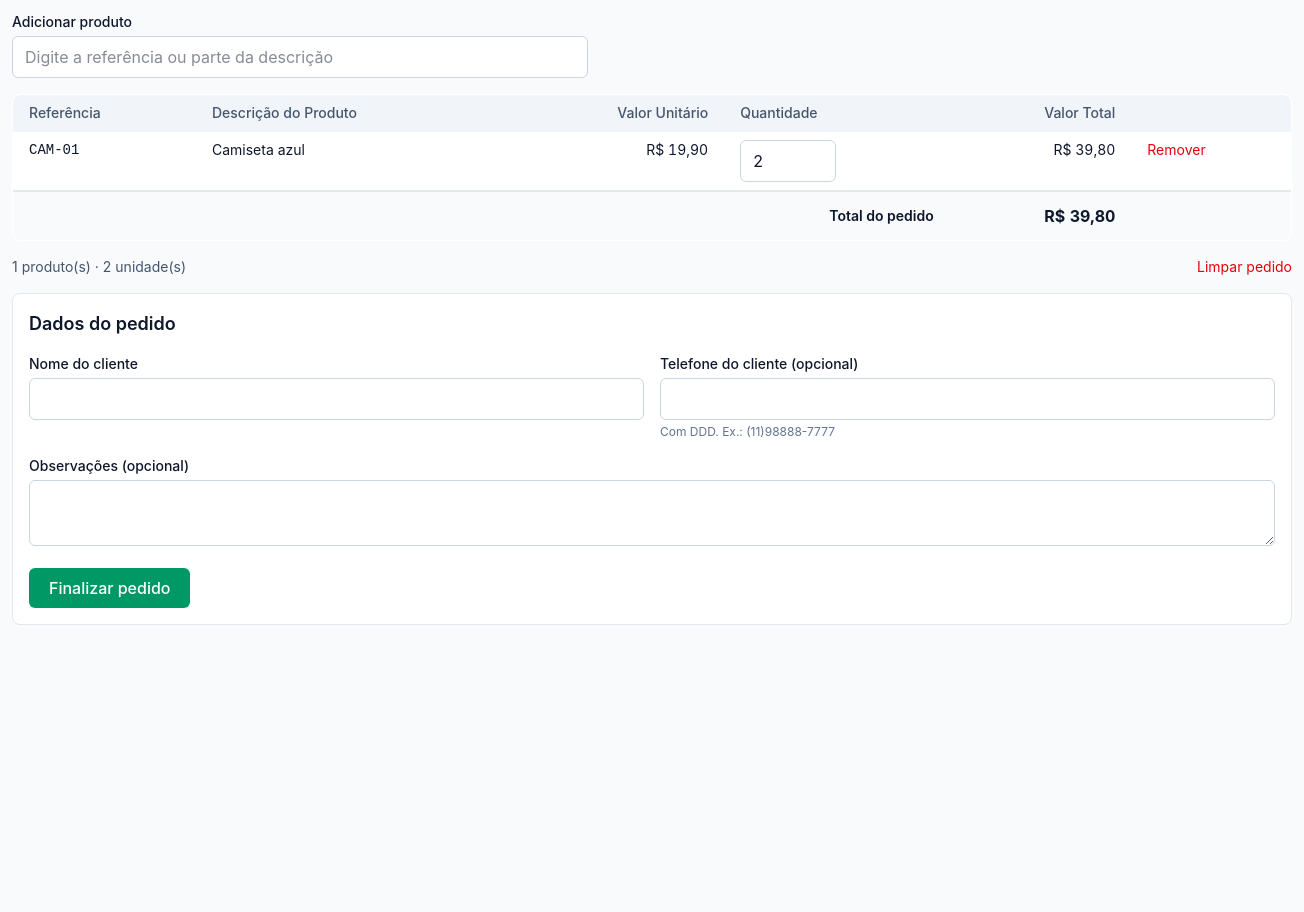
Scenario: edição e cálculo automático › corrigir a quantidade volta a calcular e a permitir o salvamento
Replace the text in the field named "Quantidade de CAM-01" with "x": coordinates (788, 161) [740,140,836,182]
Wait 1200 ms
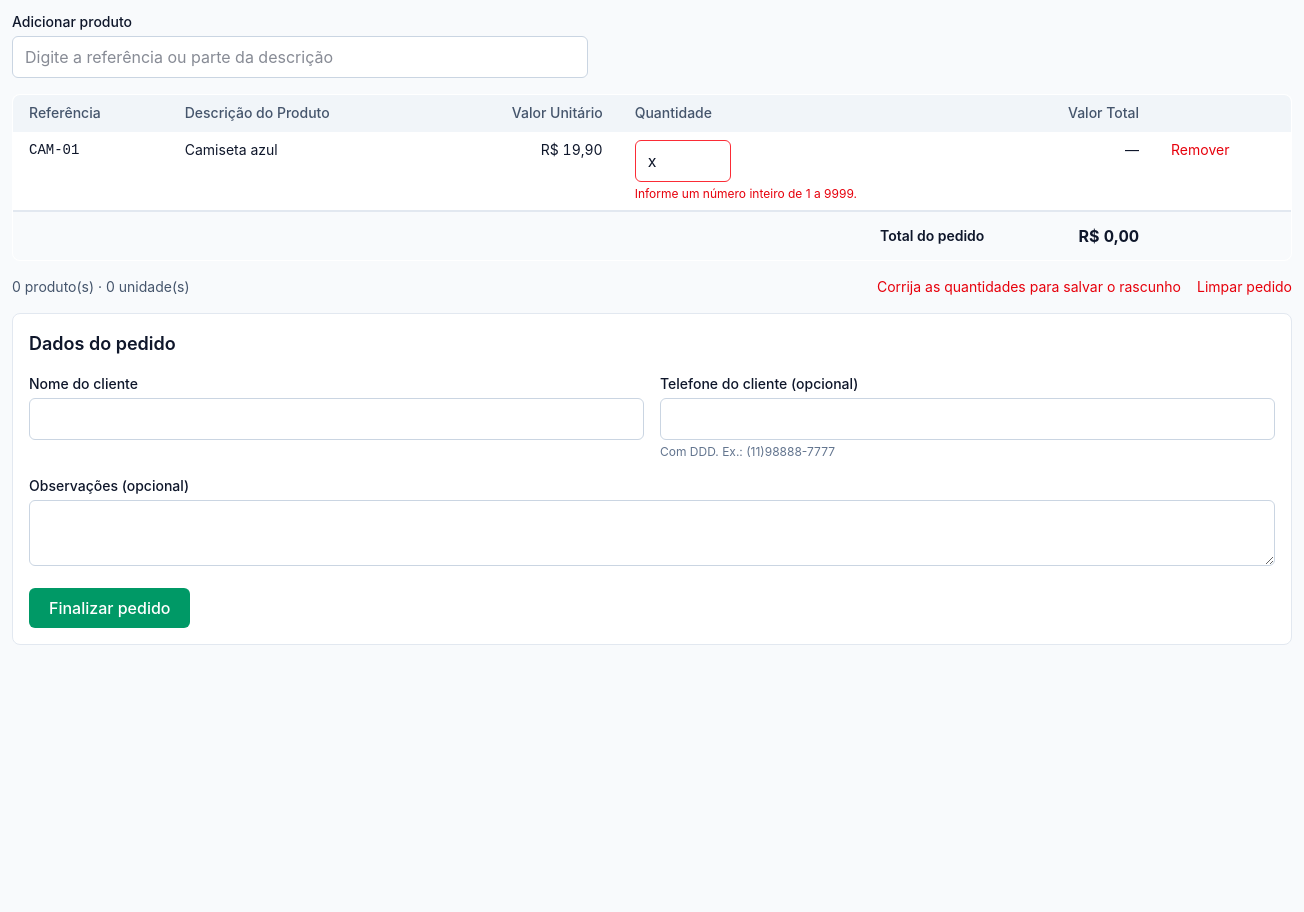
Replace the text in the field named "Quantidade de CAM-01" with "4": coordinates (683, 161) [635,140,731,182]
Wait 600 ms
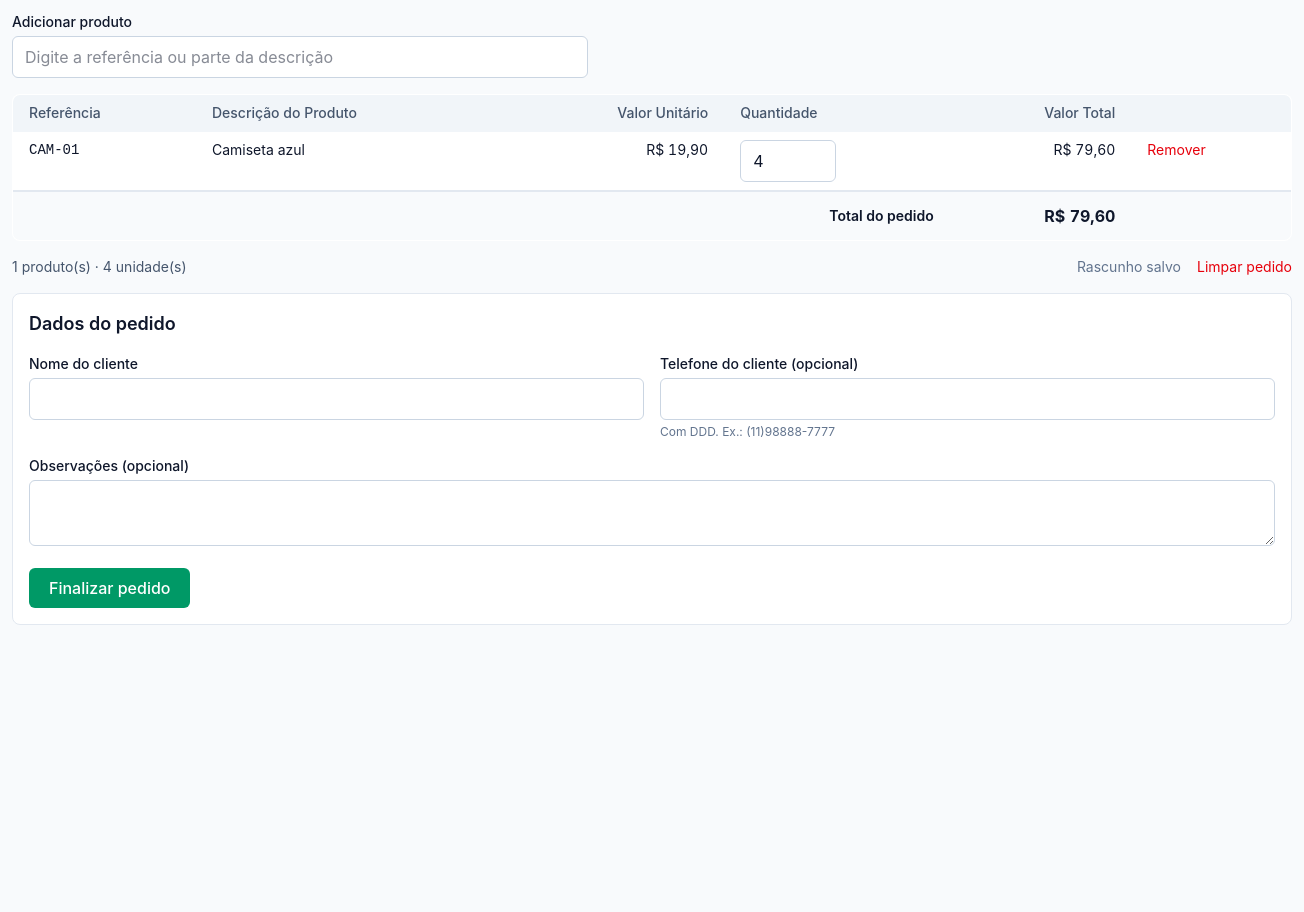
Expected: the cell "R$ 79,60" in the row of "CAM-01" is shown, [1054,141,1115,158]
